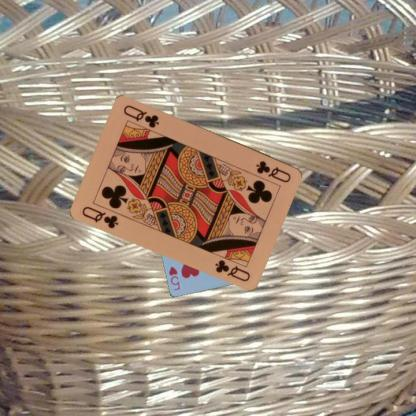Qc: (80, 203, 120, 230), (254, 158, 292, 184)
